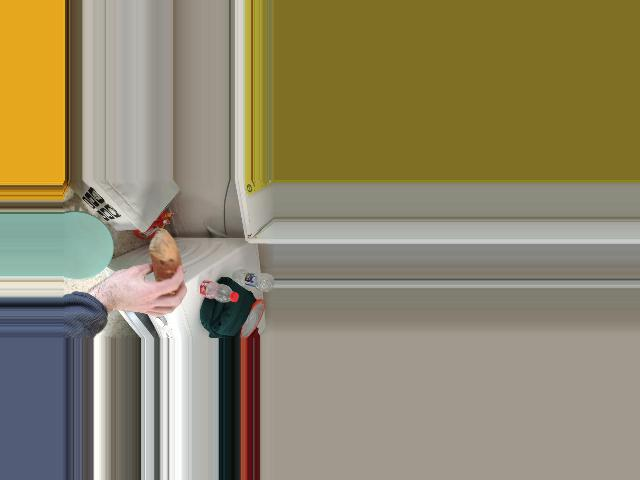sweet_potato: (156, 241, 177, 288)
